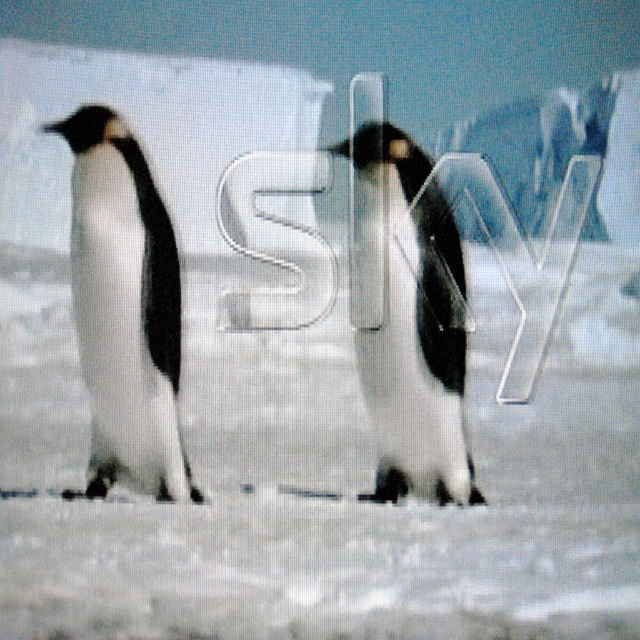Penguin: (37, 105, 212, 512), (317, 117, 489, 510)
